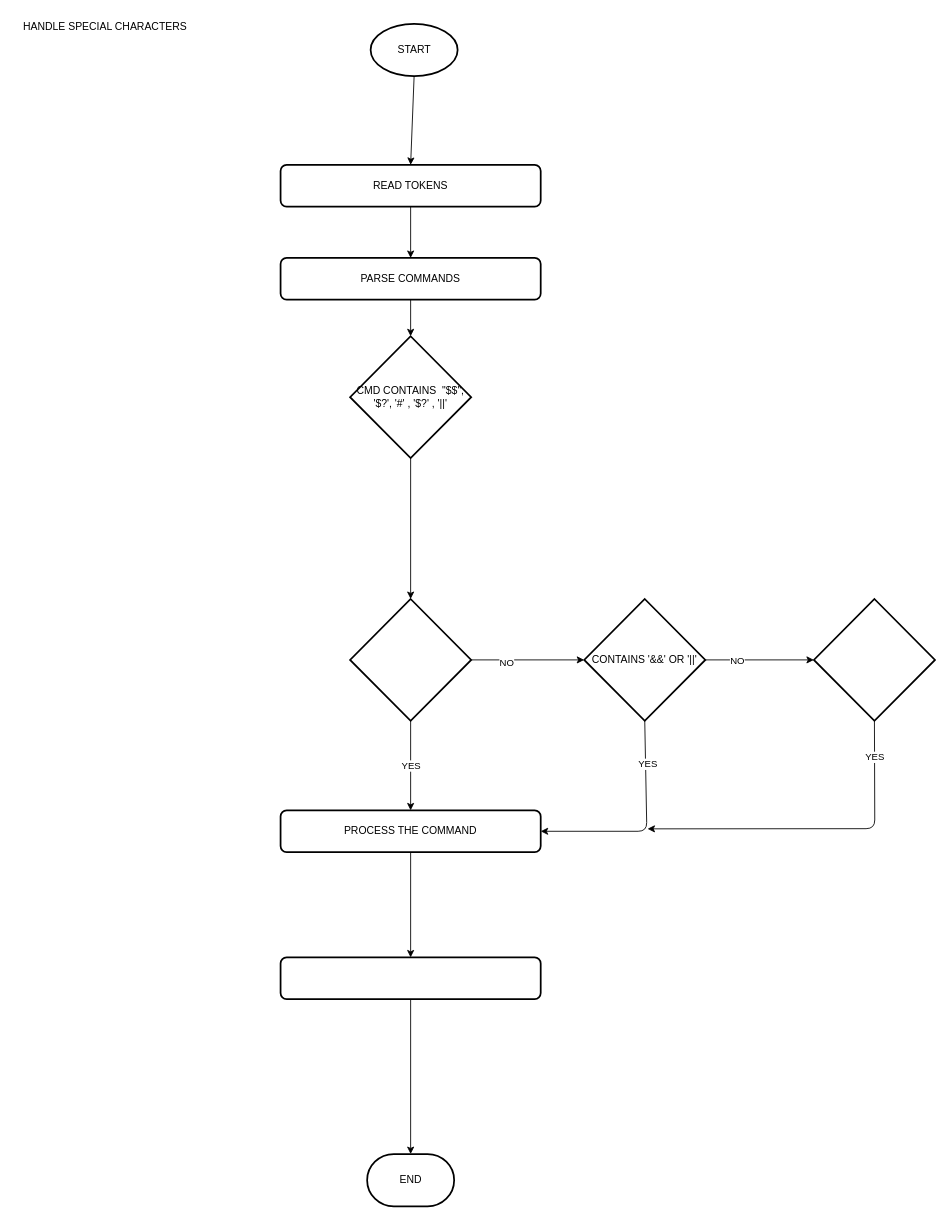
Image size: 951x1221. Some labels were removed from this diagram. The shapes that lost their labels are listed below. From the top down, each one's centre as x and y in pixels, then its label:
At (x=410, y=659): "CONTAINS '$$' OR '$?'".
At (x=874, y=659): "CONTAINS '#'".
At (x=410, y=978): "EXECUTE THE COMMAND".
